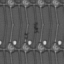dust: (33, 21, 38, 31), (24, 32, 28, 35)
